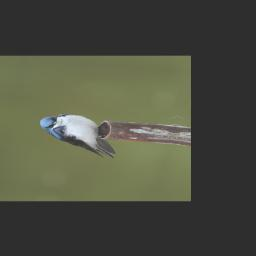Swallow: (31, 110, 126, 159)
